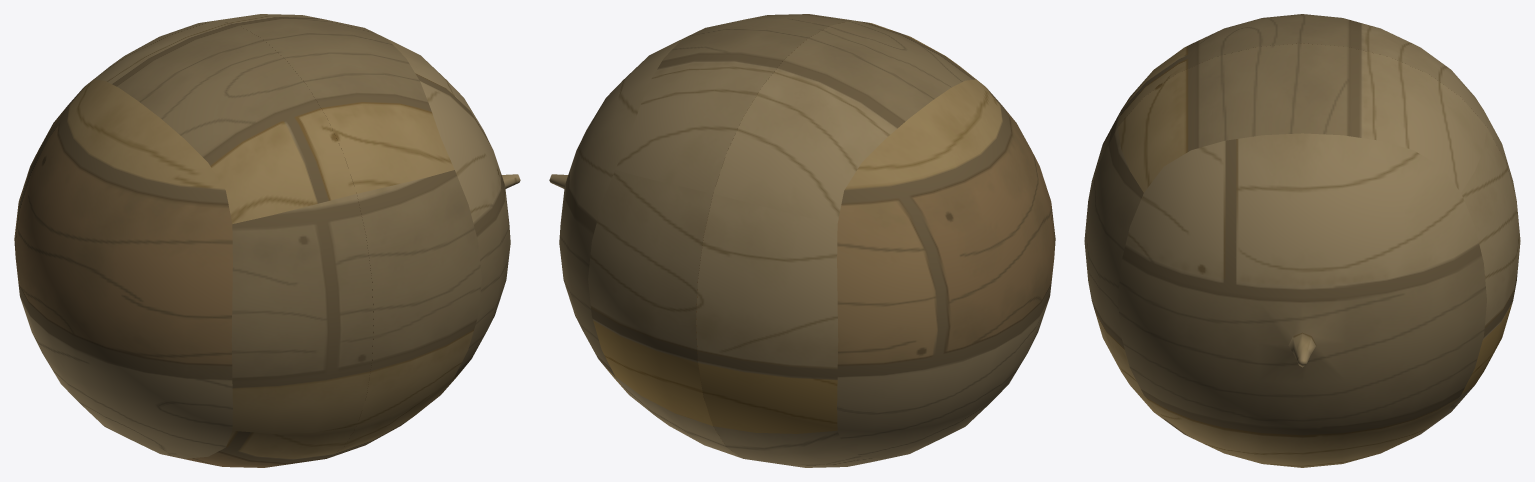
Rendered from melon split.fbx.
3 renders of one model, left to right at view 1: azimuth 30°, elevation 25°; view 2: azimuth 150°, elevation 25°; view 3: azimuth 270°, elevation 25°, orthographic. The views are drawn at different scales.
Parts seen in each view (by area): view 1: polySurface4, polySurface5; view 2: polySurface4, polySurface5; view 3: polySurface5, polySurface4.
Part boxes in pixels (x1=…): polySurface4: x1=14, y1=20, x2=373, y2=467; polySurface5: x1=207, y1=14, x2=520, y2=458; polySurface4: x1=696, y1=20, x2=1055, y2=467; polySurface5: x1=549, y1=14, x2=862, y2=458; polySurface5: x1=1084, y1=43, x2=1520, y2=467; polySurface4: x1=1088, y1=14, x2=1516, y2=199.
Bounding box in the file's own units: 1.04 × 0.8492 × 0.8492.
